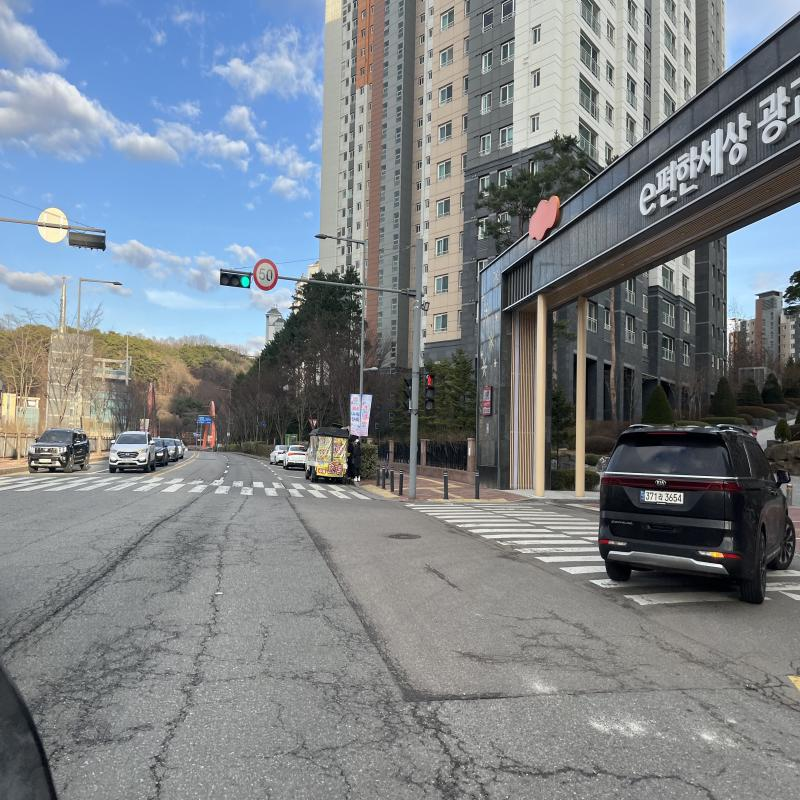green: (240, 276, 251, 289)
